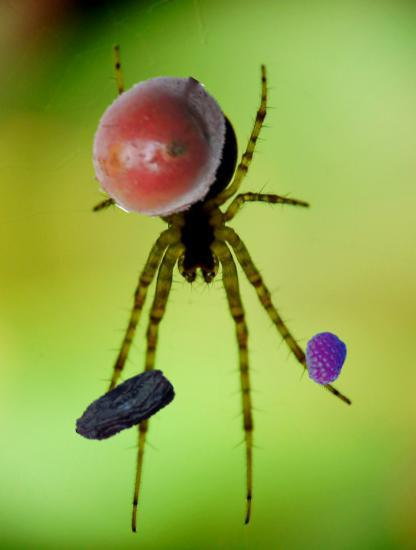Dates: (70, 353, 178, 461)
Potato: (86, 71, 235, 220)
Raspberry: (296, 331, 351, 386)
